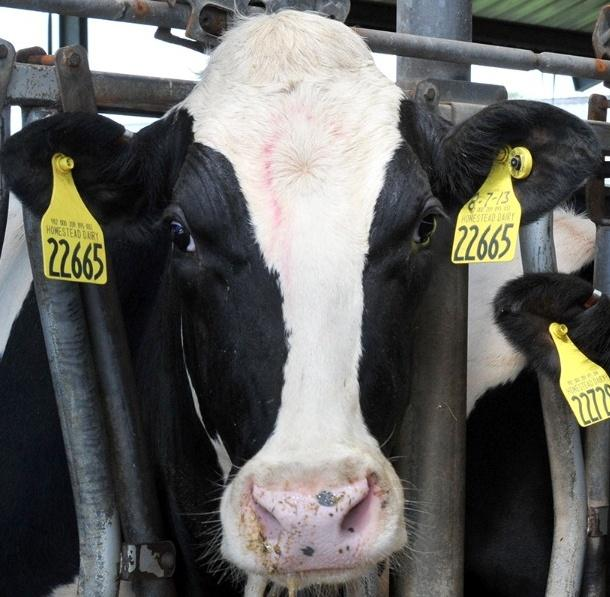muzzles: (217, 459, 412, 587)
